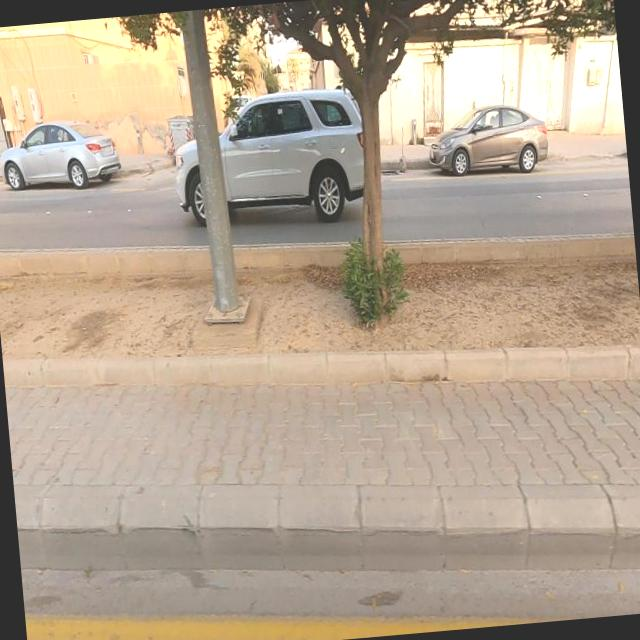debris: (134, 36, 226, 206)
